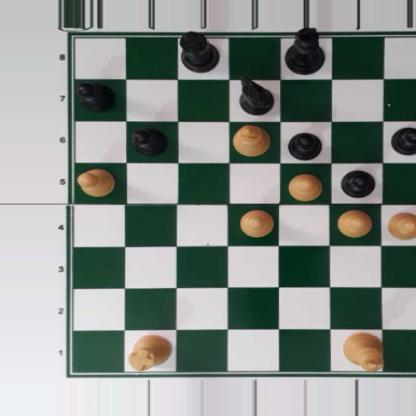black-king: (283, 27, 327, 77)
black-knight: (236, 77, 274, 114)
black-pawn: (77, 79, 115, 112), (129, 126, 168, 156), (339, 168, 375, 198), (286, 129, 322, 159), (390, 125, 416, 155)
black-rook: (178, 30, 222, 72)
white-bishop: (233, 123, 272, 159)
white-king: (342, 332, 385, 373)
white-pawn: (75, 167, 115, 197), (336, 207, 372, 238), (286, 172, 324, 201), (238, 210, 275, 237), (387, 210, 416, 240)
white-rook: (128, 333, 172, 370)
